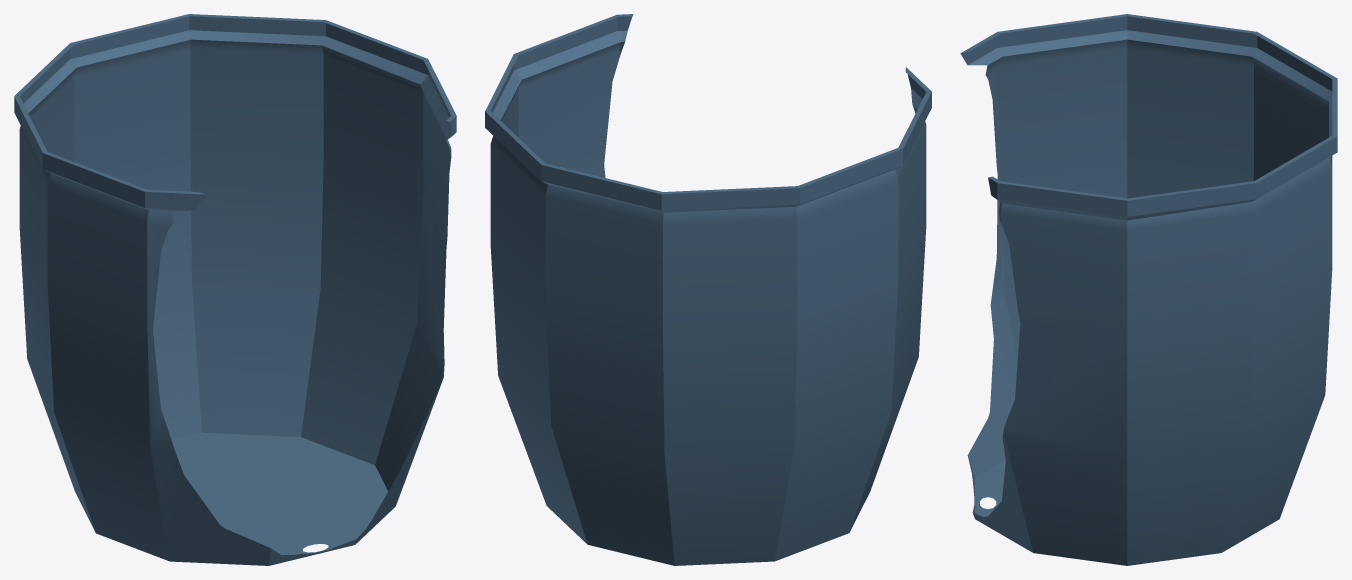
Rendered from CroppedBow_HowPlant.fbx.
3 renders of one model, left to right at view 1: azimuth 30°, elevation 25°; view 2: azimuth 150°, elevation 25°; view 3: azimuth 270°, elevation 25°, orthographic.
Parts seen in each view (by area): view 1: CroppedBow1; view 2: CroppedBow1; view 3: CroppedBow1.
Part boxes in pixels (x1=…): CroppedBow1: x1=14, y1=14, x2=456, y2=565; CroppedBow1: x1=485, y1=14, x2=931, y2=565; CroppedBow1: x1=960, y1=14, x2=1337, y2=565.
Size of the model in its own units: 3.46 by 3.37 by 2.95.
